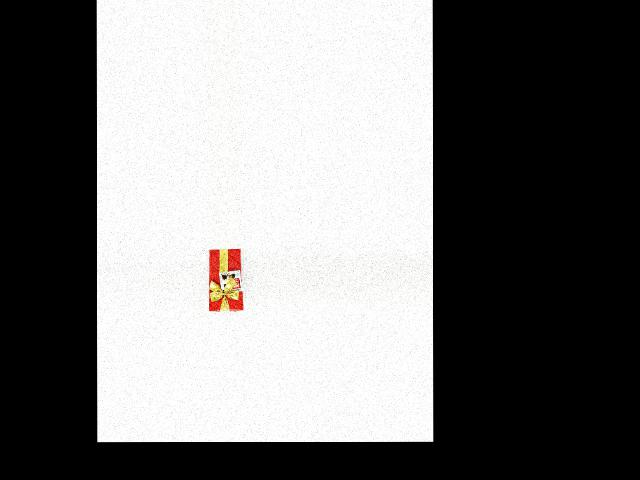chocolate: (206, 249, 243, 313)
